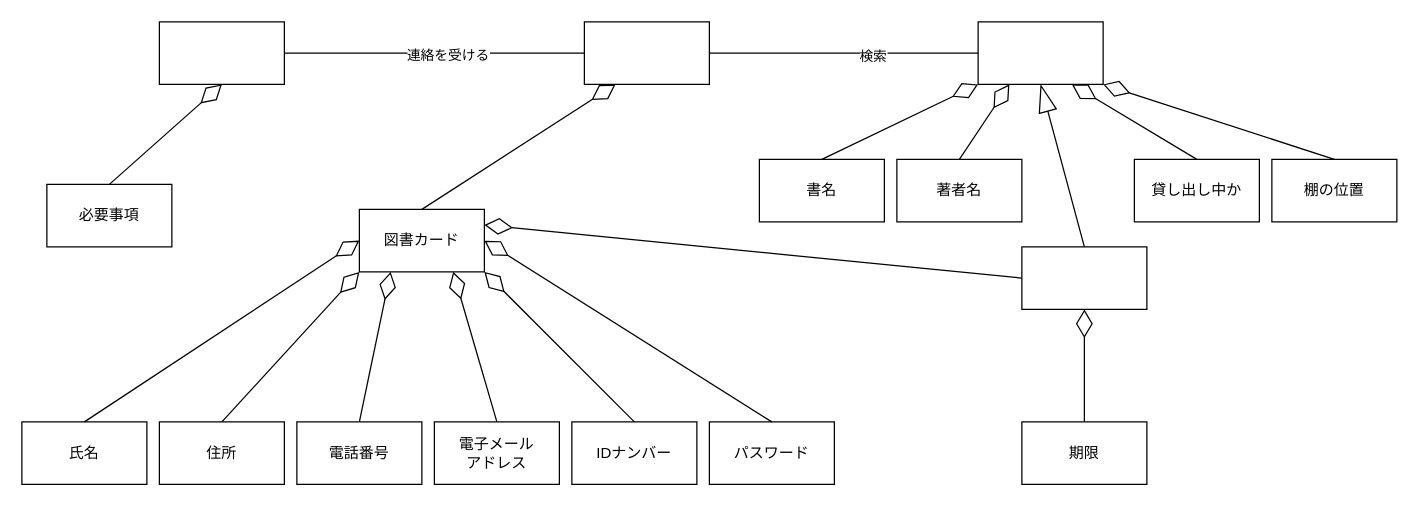
The diagram is 1419 pixels wide and 506 high, and some of its shapes have lost their labels. The box of each missing label's shape, as (x1, y1, x2, y2) in pixels:
借りている本: (1021, 246, 1147, 309)
利用者: (583, 21, 709, 84)
図書: (977, 21, 1103, 84)
貸し出し予約: (158, 21, 284, 84)
